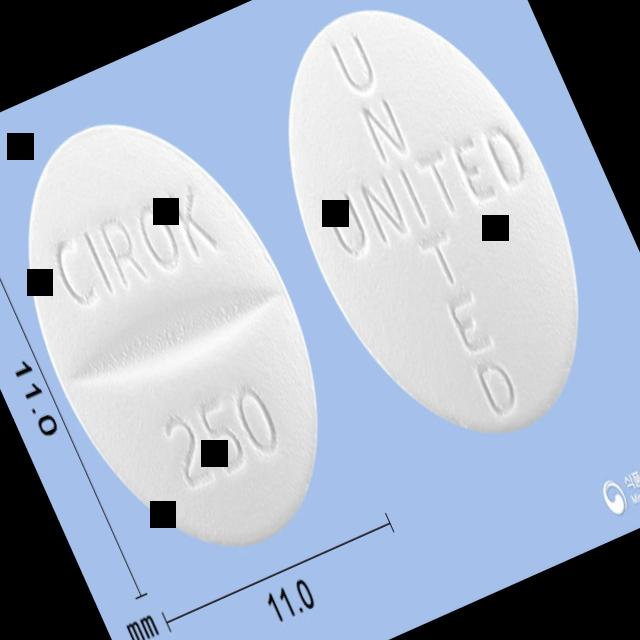Baracle -1mg: (229, 0, 640, 480), (0, 78, 376, 590)
